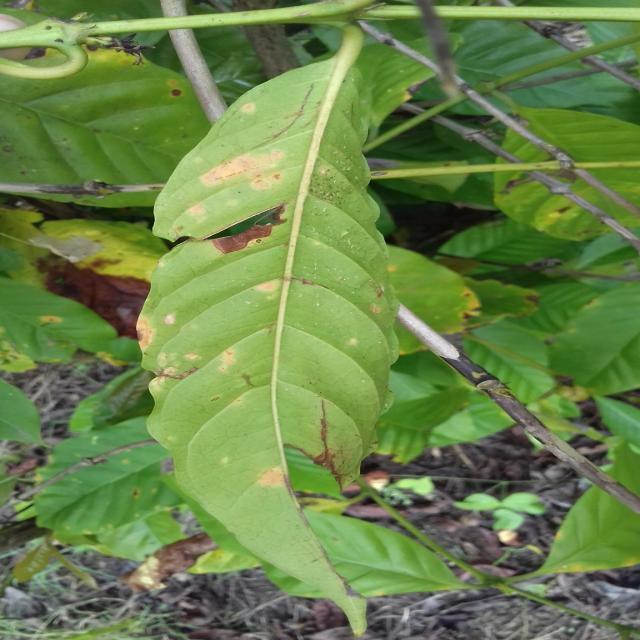Enfermedad-Roya: (145, 60, 399, 638)
